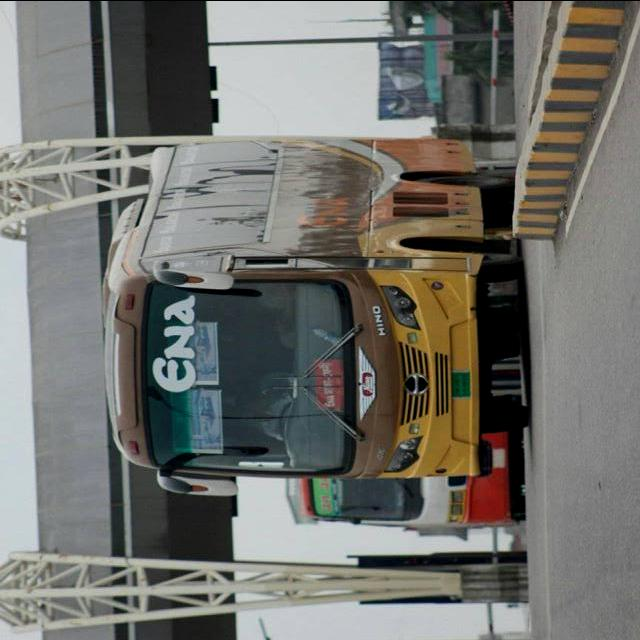bus: (102, 137, 527, 494)
